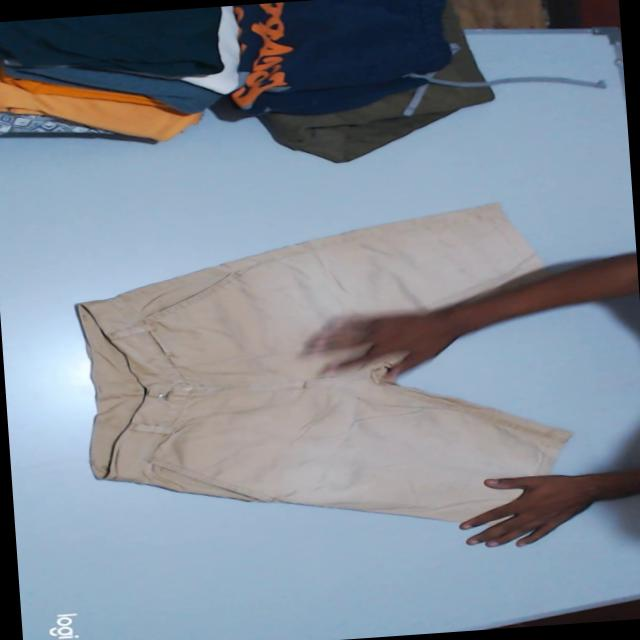new-garment: (78, 204, 569, 521)
